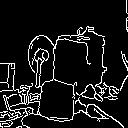cube: (31, 76, 79, 124)
